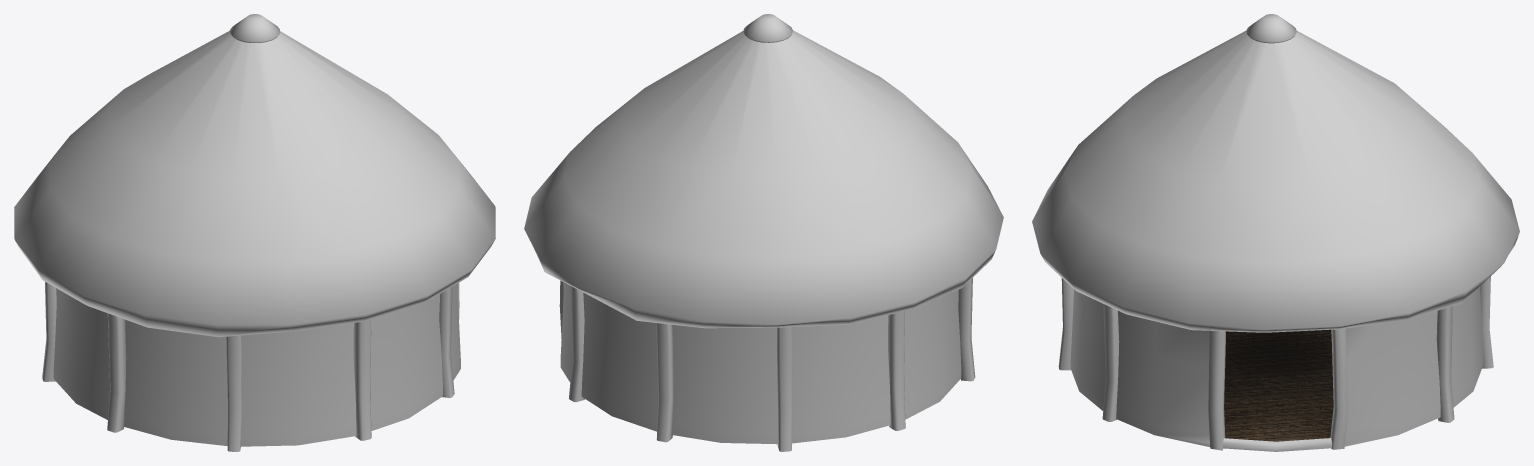
File: HovelLowPoly.fbx
3 renders of one model, left to right at view 1: azimuth 30°, elevation 25°; view 2: azimuth 150°, elevation 25°; view 3: azimuth 270°, elevation 25°, orthographic.
Visible parts, largest first — view 1: HovelFloor; view 2: HovelFloor; view 3: HovelFloor.
Part boxes in pixels (left/top/right/bottom): HovelFloor: left=14, top=14, right=495, bottom=451; HovelFloor: left=524, top=14, right=1003, bottom=451; HovelFloor: left=1032, top=14, right=1519, bottom=451.
Bounding box in the file's own units: 16.42 × 12.99 × 16.42.
